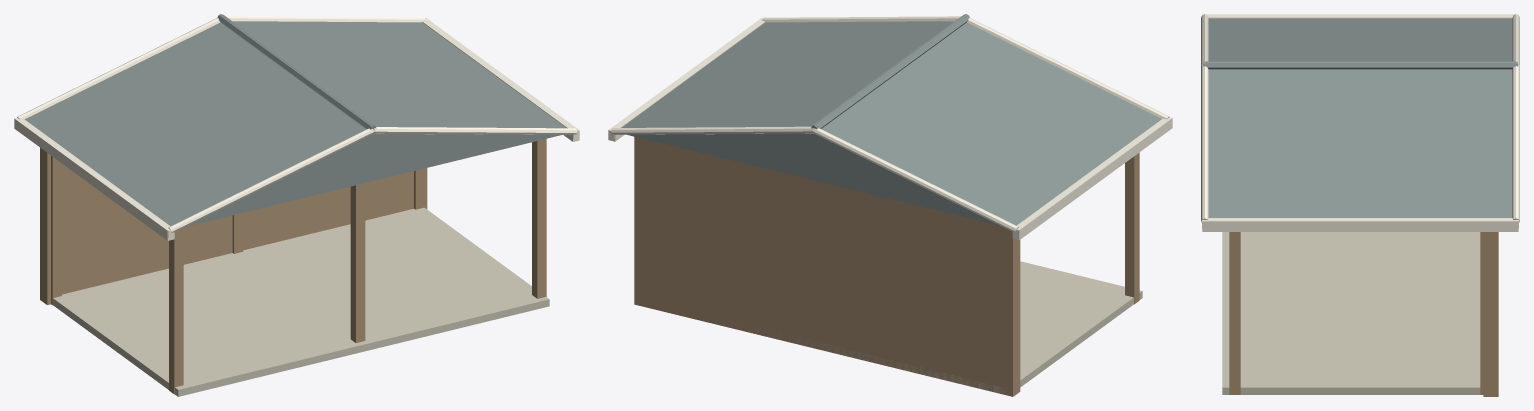
3 views of the same model, side by side, from view 1: azimuth 30°, elevation 25°; view 2: azimuth 150°, elevation 25°; view 3: azimuth 270°, elevation 25° (orthographic). The views are drawn at different scales.
Bounding box in the file's own units: 9.76 × 5.26 × 6.35.
